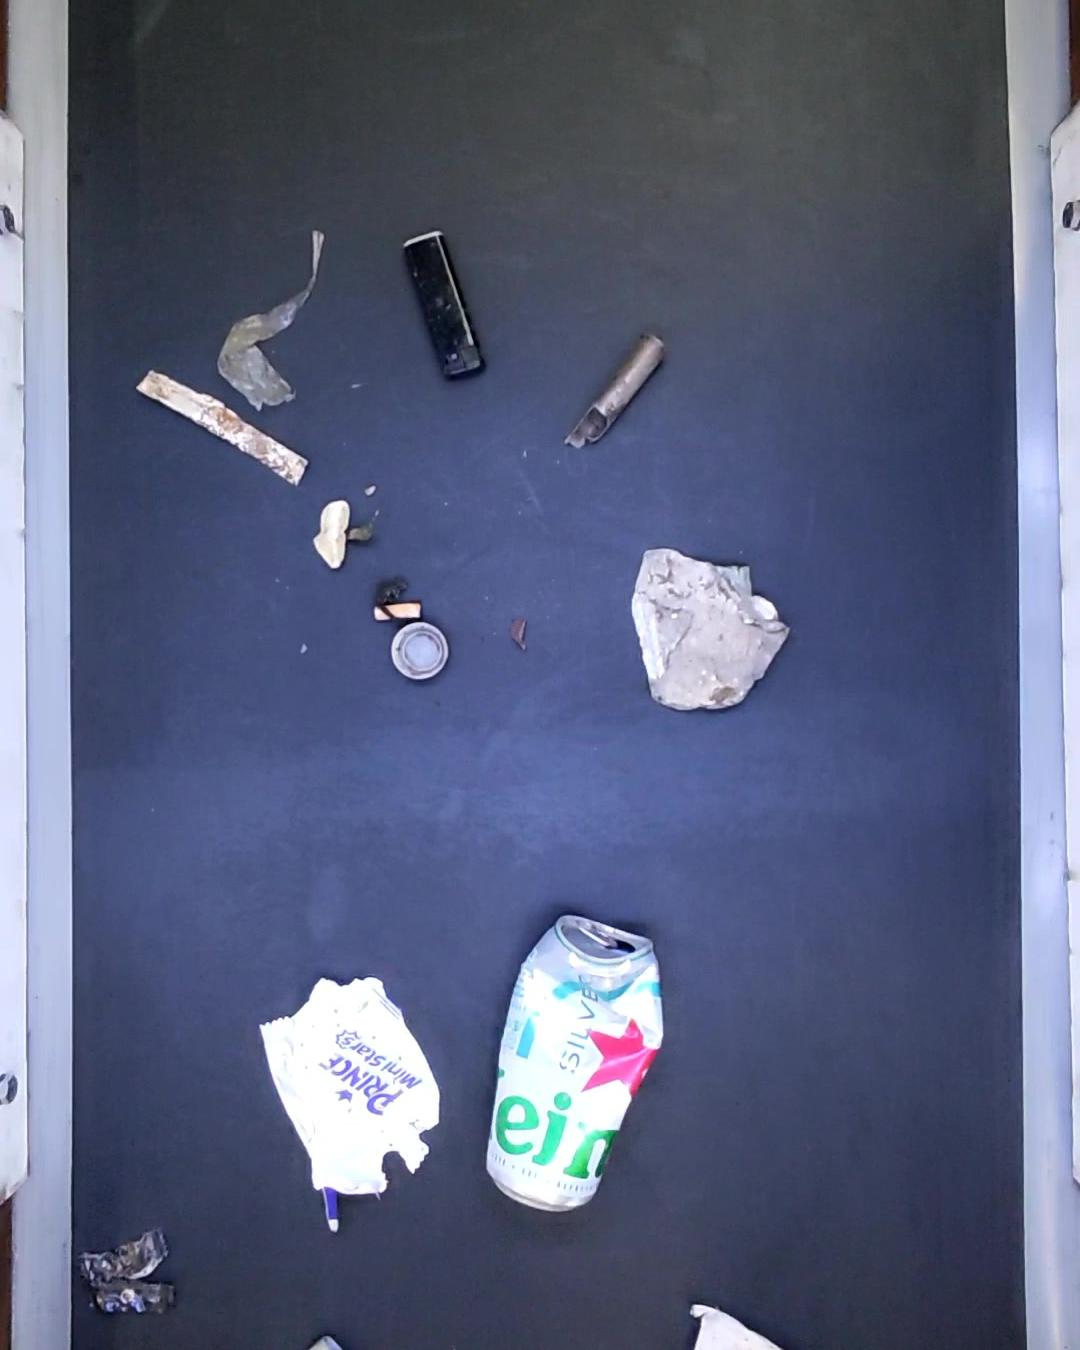Drankblikjes: (487, 911, 668, 1211)
Plastic folies of stukken daarvan 2.5- 50 cm: (213, 222, 347, 410)
Snoep snack en chips verpakkingen: (251, 970, 446, 1233), (77, 1228, 174, 1316)
